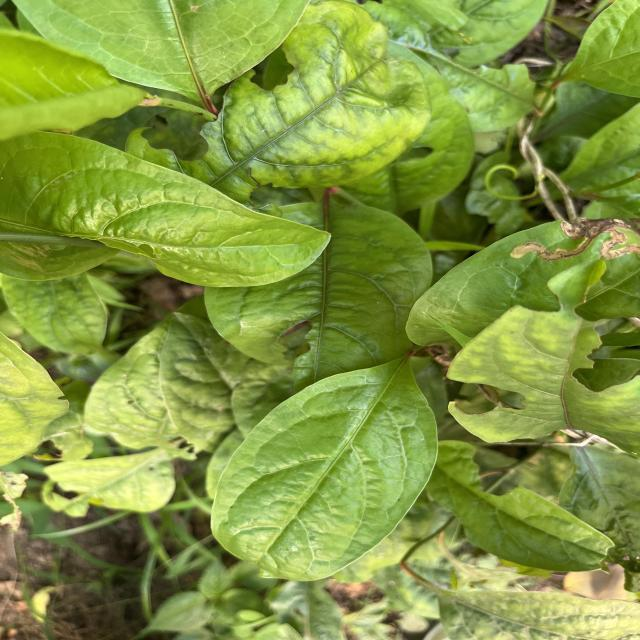Plumbago indica: (206, 356, 447, 586)
